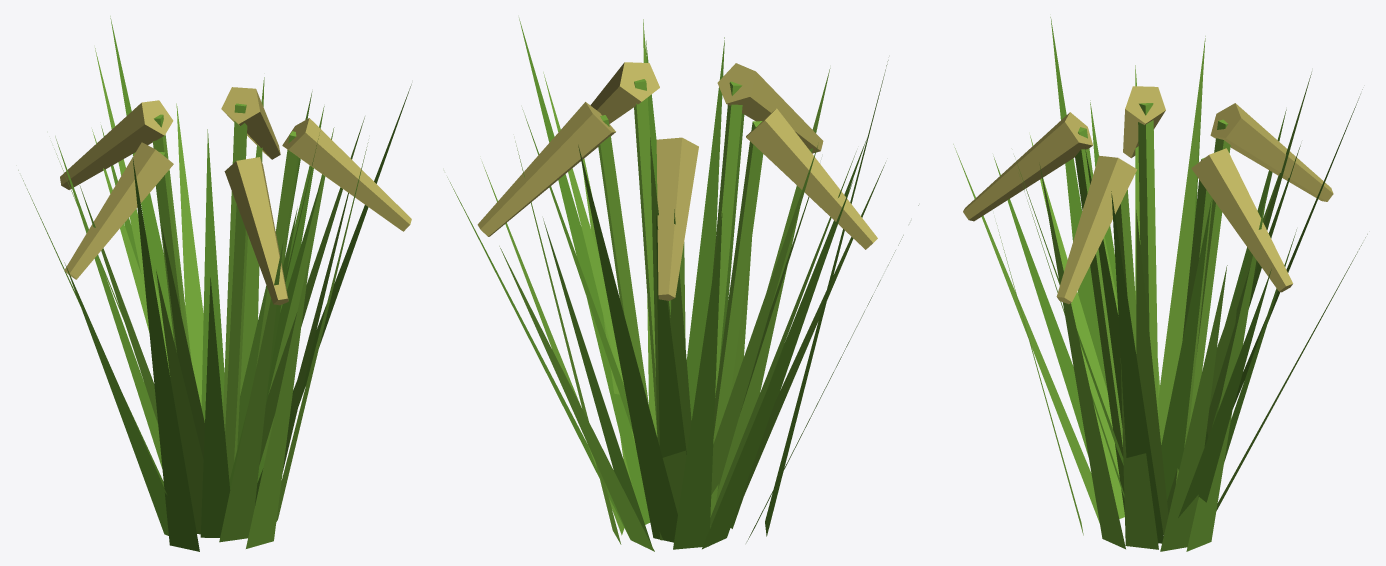
File: rice_tuft.glb
3 renders of one model, left to right at view 1: azimuth 30°, elevation 25°; view 2: azimuth 150°, elevation 25°; view 3: azimuth 270°, elevation 25°, orthographic. The views are drawn at different scales.
Visible parts, largest first — view 1: rice_tuft2; view 2: rice_tuft2; view 3: rice_tuft2.
Part boxes in pixels (<box>): rice_tuft2: <box>18,16,411,551</box>; rice_tuft2: <box>447,18,918,551</box>; rice_tuft2: <box>953,17,1367,551</box>.
Bounding box in the file's own units: 0.9795 × 1.14 × 0.9694.
